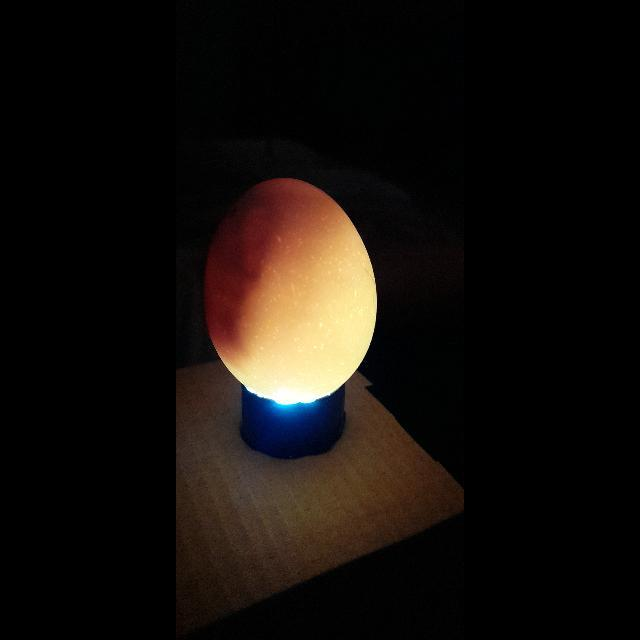Infertile: (199, 171, 389, 409)
